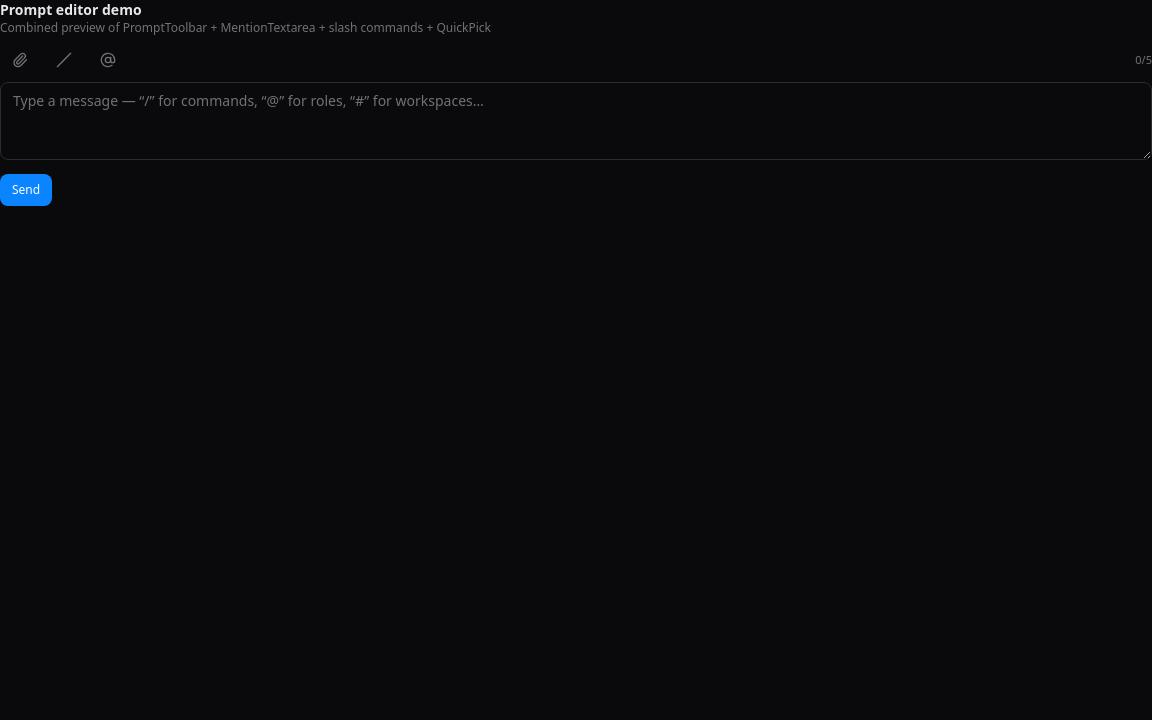
Test: PromptEditorDemo › opens the slash quickpick from the toolbar and runs a command
Click the button with test id "prompt-toolbar-slash" at (64,60), box [44,44,84,76]
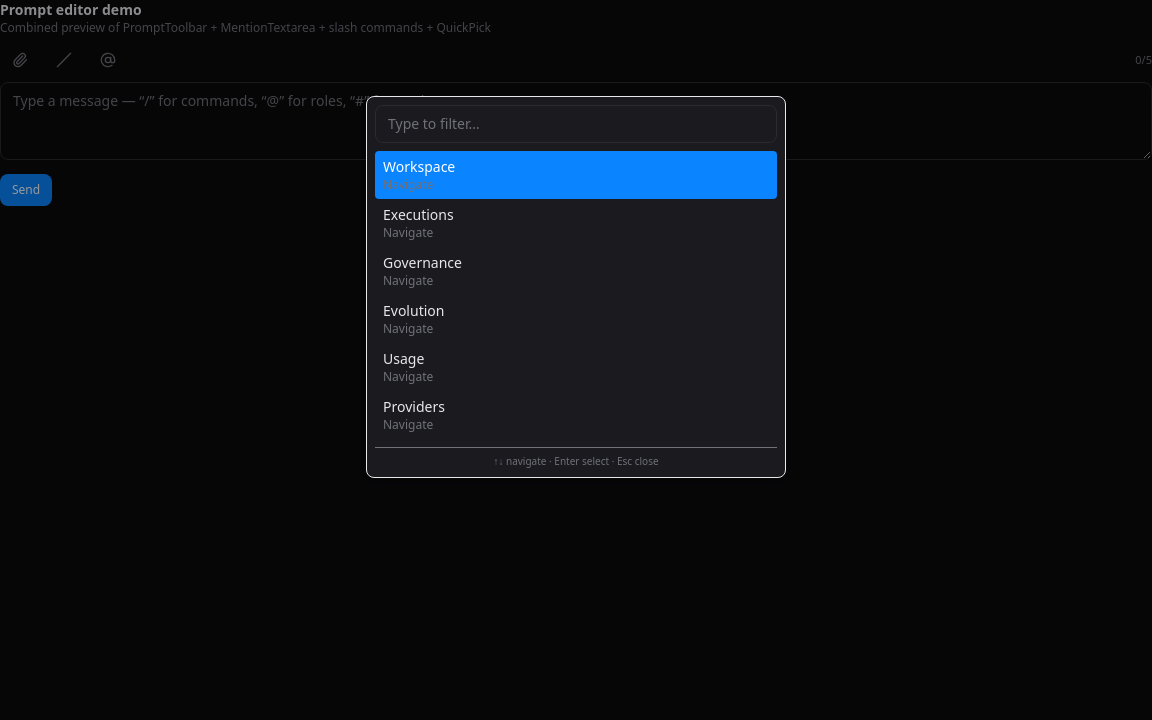
Expected: the dialog with test id "quickpick" is shown, [366,96,786,478]
Click the option with test id "quickpick-item" showing "Usage Navigate" at (404,358), box [375,343,777,391]
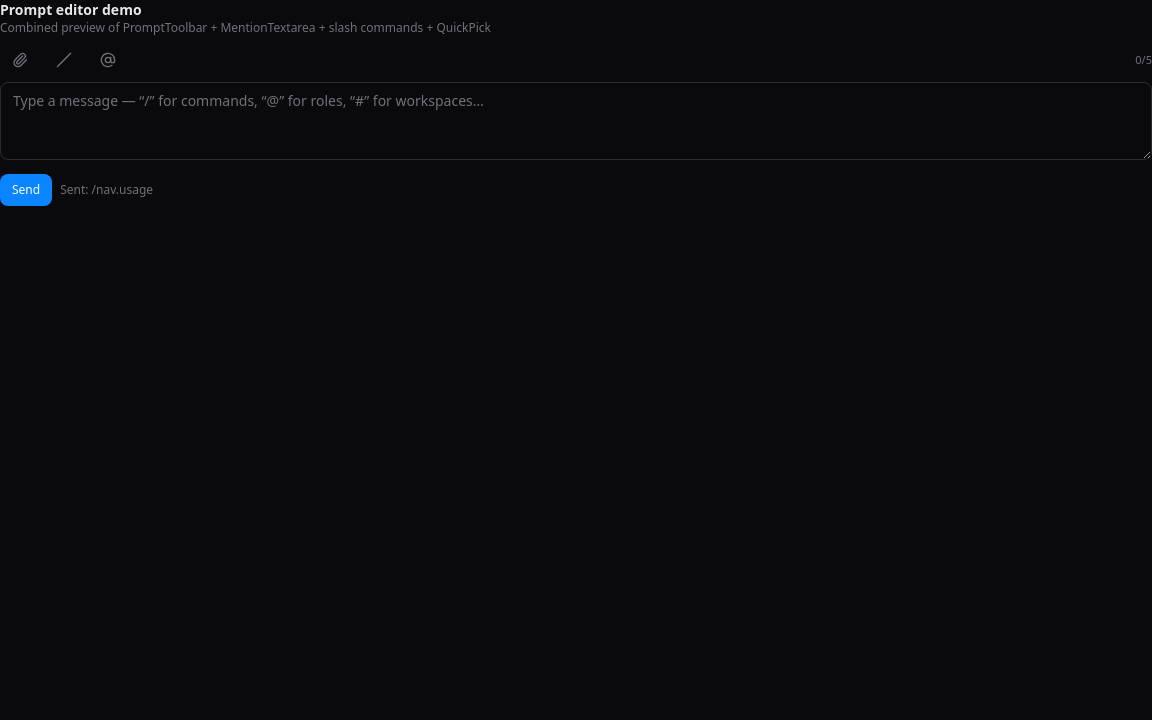
Expected: the dialog with test id "quickpick" is gone
